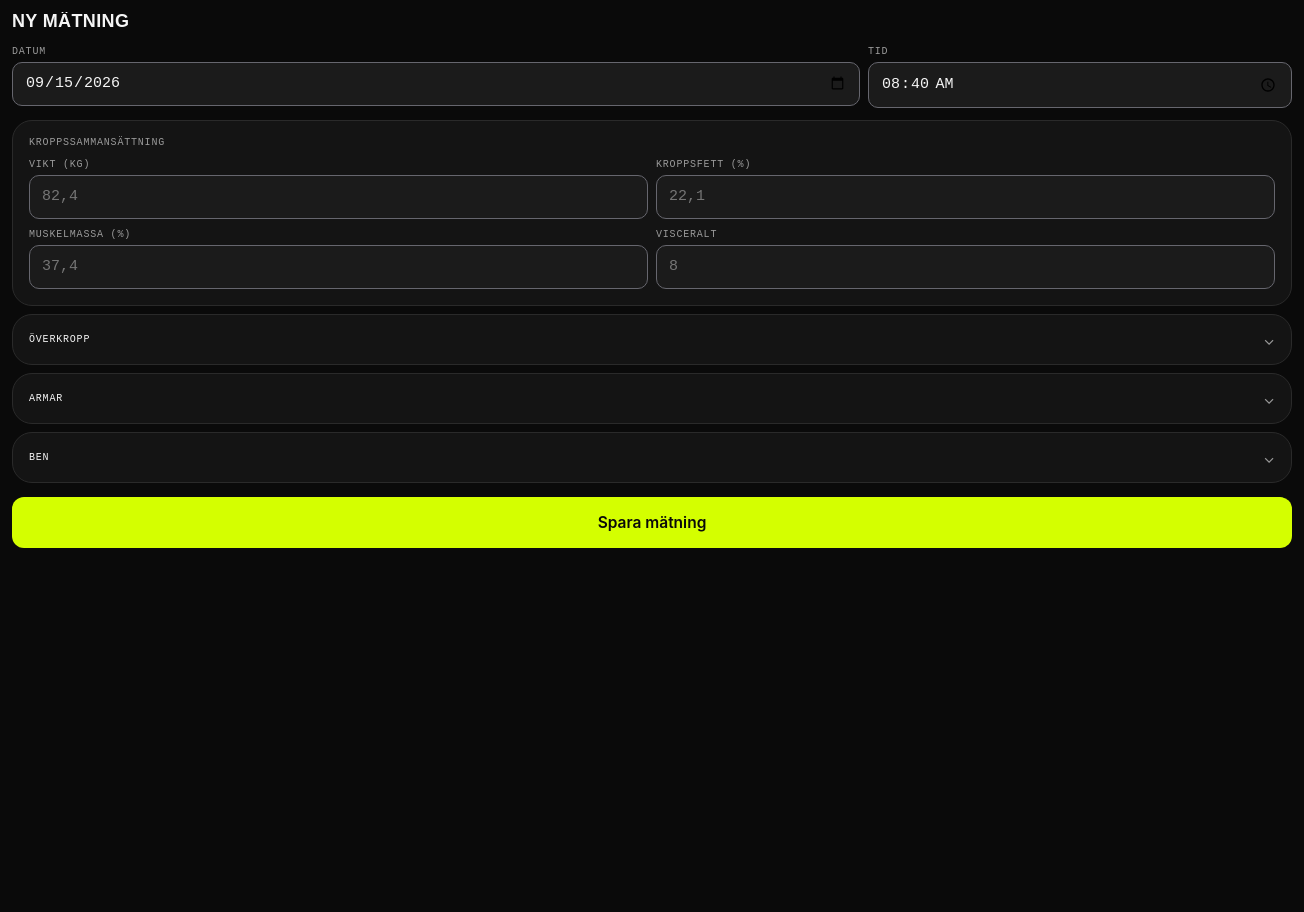
it: registrera en mätning › grupperna är hopfällda tills man öppnar dem
This screenshot has width=1304, height=912.
What coordinates should you click on to do the following:
click the button "Armar ⌄"
I would click on:
 (46, 398)
Its box is [13,374,1291,422].
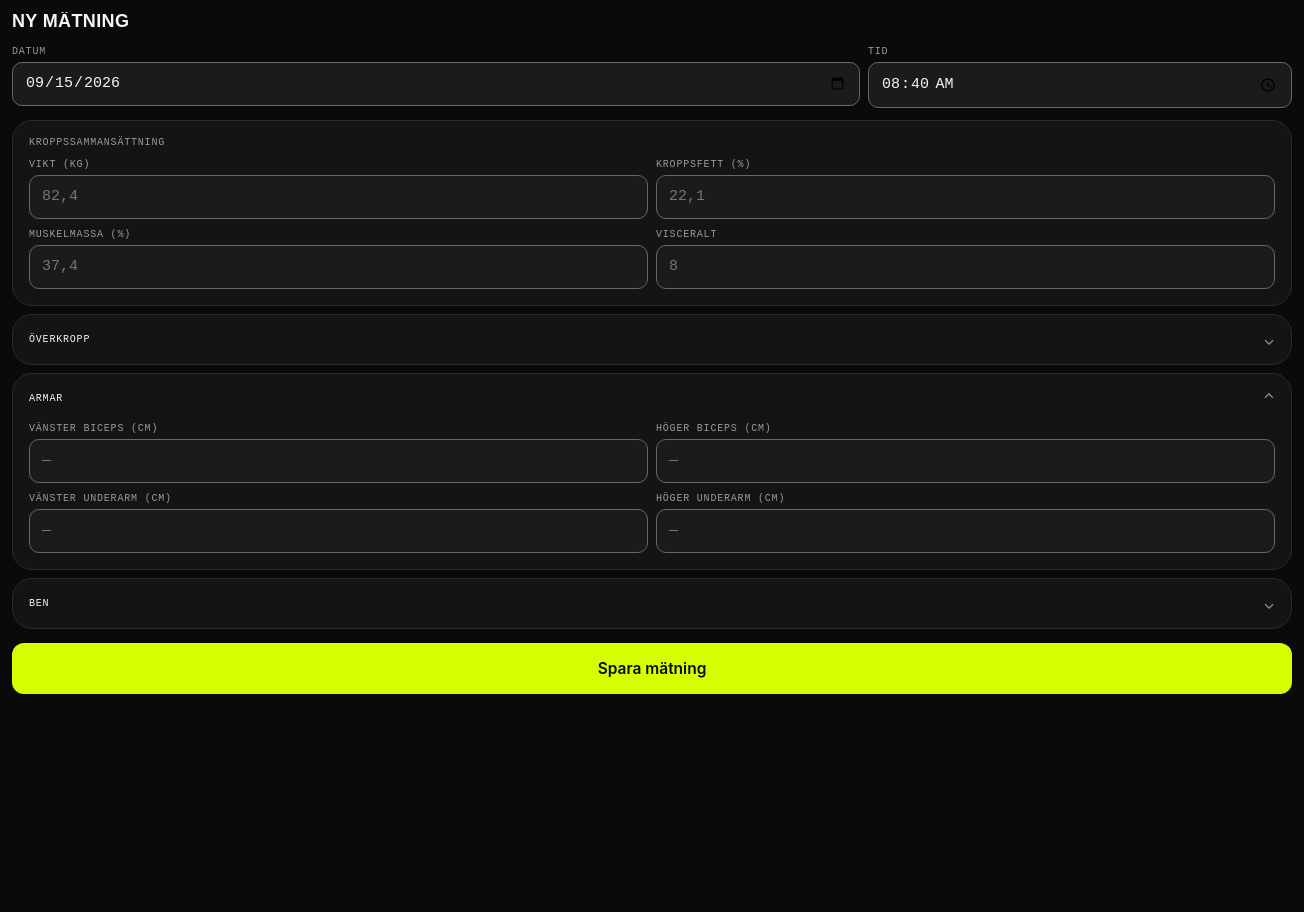
Expected: the button "Armar ⌄" is expanded, [13,374,1291,422]
Expected: the field labelled "Höger biceps (cm)" is shown, [656,438,1275,482]
